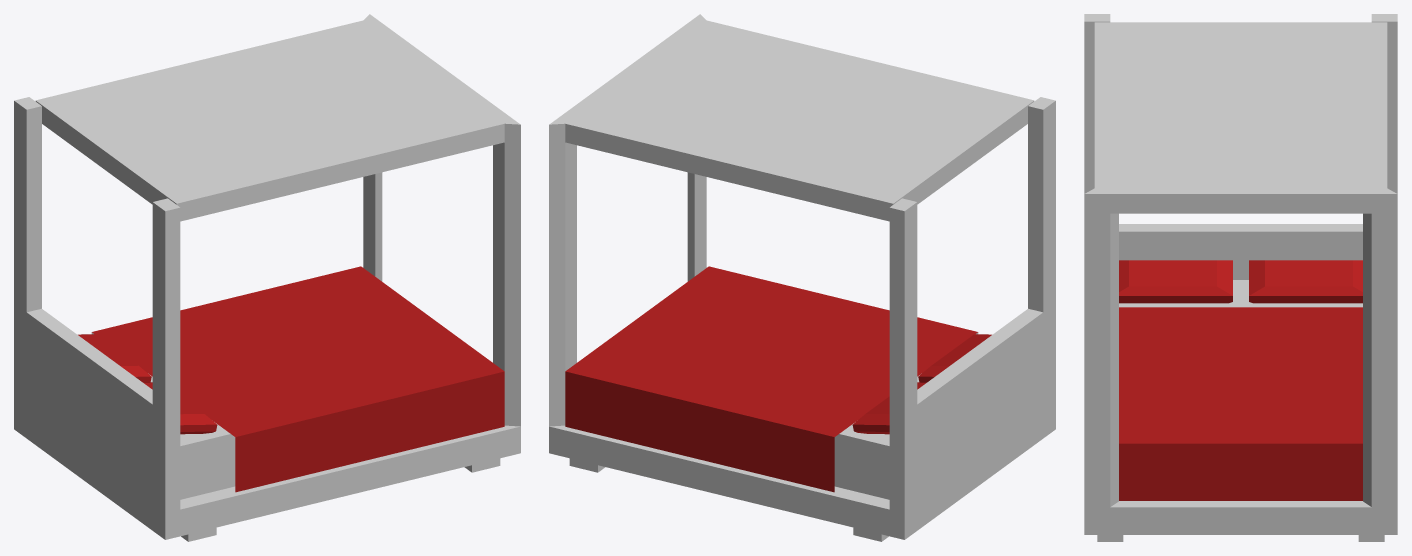
File: Bed.fbx
3 renders of one model, left to right at view 1: azimuth 30°, elevation 25°; view 2: azimuth 150°, elevation 25°; view 3: azimuth 270°, elevation 25°, orthographic. The views are drawn at different scales.
Visible parts, largest first — view 1: Cube; view 2: Cube; view 3: Cube.
Boxes of the visible parts, x1,y1,x2,y2 form: Cube: (14, 14, 520, 541); Cube: (549, 14, 1055, 541); Cube: (1084, 14, 1397, 541).
Bounding box in the file's own units: 272 × 250 × 200.
